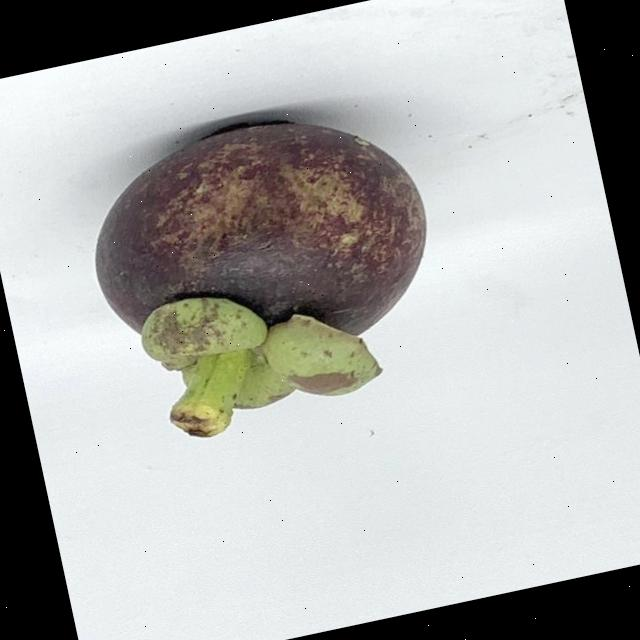mangosteen: (52, 69, 486, 464)
